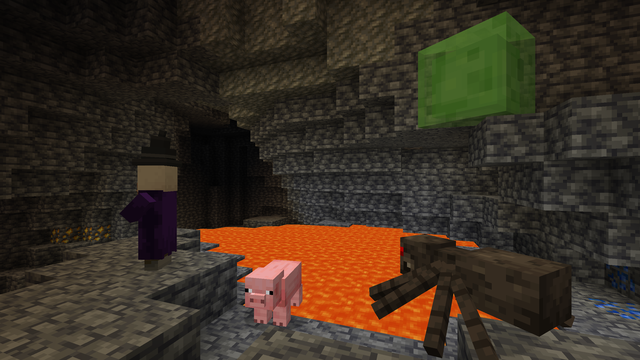araignees: (393, 226, 561, 357)
cochons: (245, 258, 307, 329)
slimes: (429, 9, 546, 134)
sorcieres: (131, 160, 184, 272)
